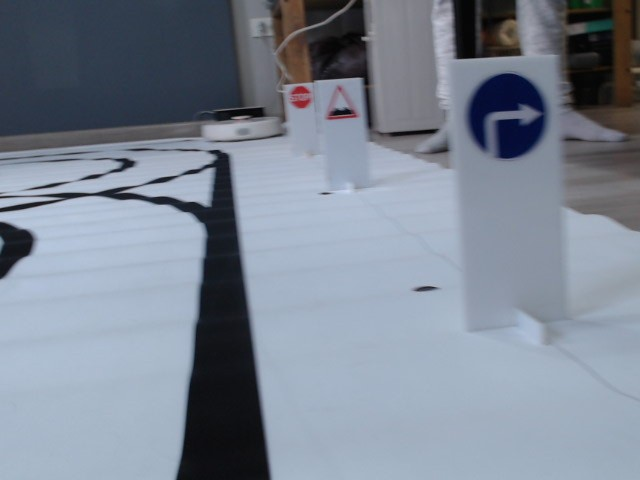Nerov: (324, 84, 359, 121)
Right: (466, 71, 547, 159)
